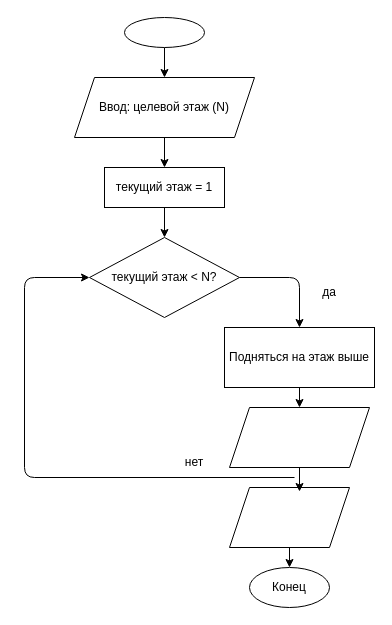
Image size: 392x625. Some labels were removed from this diagram. Here are the shapes that lost their labels. From the top down, the box of each, then its label:
(124, 16, 204, 48): Начало
(228, 406, 370, 468): текущий этаж = текущий эатж +1
(228, 486, 350, 548): Вы на целевом этаже
